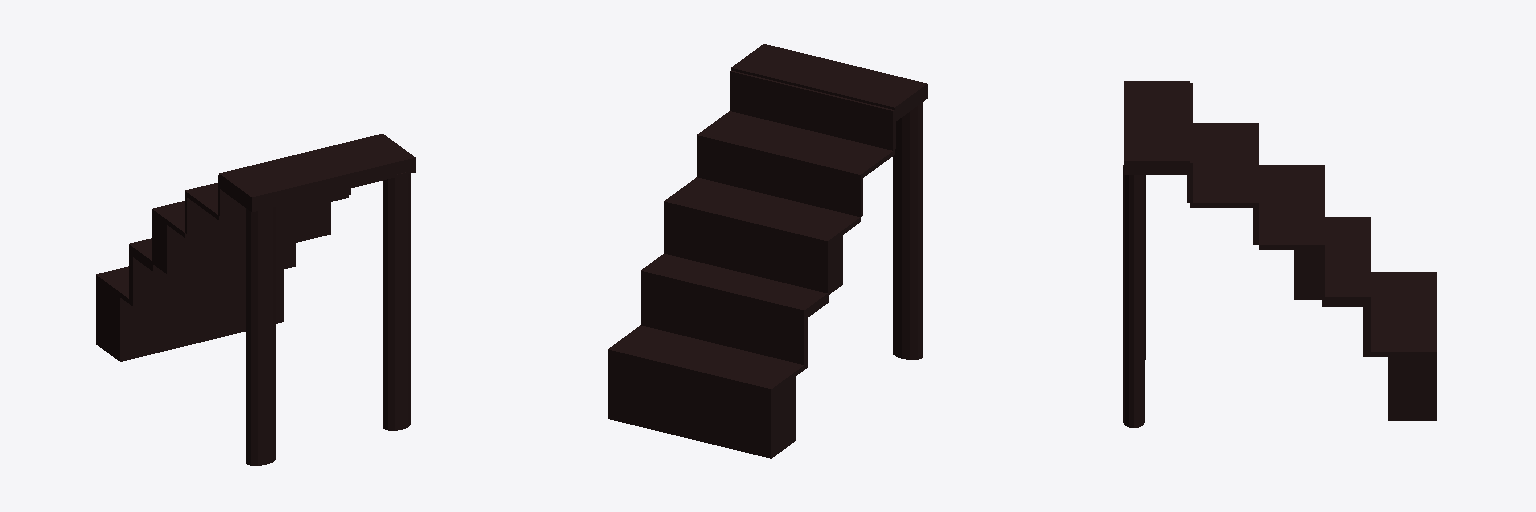
3 views of the same model, side by side, from view 1: azimuth 30°, elevation 25°; view 2: azimuth 150°, elevation 25°; view 3: azimuth 270°, elevation 25° (orthographic).
Parts seen in each view (by area): view 1: group[number redacted], group[number redacted], group[number redacted], group[number redacted], group[number redacted], group[number redacted], group[number redacted], group[number redacted], group[number redacted]; view 2: group[number redacted], group[number redacted], group[number redacted], group[number redacted], group[number redacted], group[number redacted], group[number redacted], group[number redacted], group[number redacted], group[number redacted], group[number redacted]; view 3: group[number redacted], group[number redacted], group[number redacted], group[number redacted], group[number redacted], group[number redacted], group[number redacted], group[number redacted], group[number redacted].
Boxes of the visible parts, box(x1,y1,x2,y2) form: group[number redacted]: box(96, 266, 283, 361); group[number redacted]: box(219, 134, 415, 211); group[number redacted]: box(246, 207, 275, 465); group[number redacted]: box(383, 172, 410, 430); group[number redacted]: box(152, 201, 330, 273); group[number redacted]: box(129, 238, 295, 305); group[number redacted]: box(185, 189, 350, 234); group[number redacted]: box(185, 183, 370, 220); group[number redacted]: box(157, 196, 348, 237); group[number redacted]: box(608, 332, 795, 458); group[number redacted]: box(664, 192, 842, 294); group[number redacted]: box(641, 269, 807, 369); group[number redacted]: box(893, 102, 922, 359); group[number redacted]: box(730, 70, 895, 150); group[number redacted]: box(697, 111, 894, 179); group[number redacted]: box(697, 140, 862, 216); group[number redacted]: box(731, 44, 927, 120); group[number redacted]: box(668, 177, 860, 242); group[number redacted]: box(643, 254, 828, 316); group[number redacted]: box(620, 325, 805, 391); group[number redacted]: box(1124, 81, 1189, 174); group[number redacted]: box(1190, 123, 1258, 207); group[number redacted]: box(1123, 165, 1144, 427); group[number redacted]: box(1388, 272, 1436, 420); group[number redacted]: box(1259, 165, 1315, 249); group[number redacted]: box(1368, 272, 1430, 356); group[number redacted]: box(1322, 217, 1365, 306); group[number redacted]: box(1294, 165, 1324, 299); group[number redacted]: box(1363, 217, 1370, 356).
Bounding box in the file's own units: 0.69 × 1.09 × 1.15.